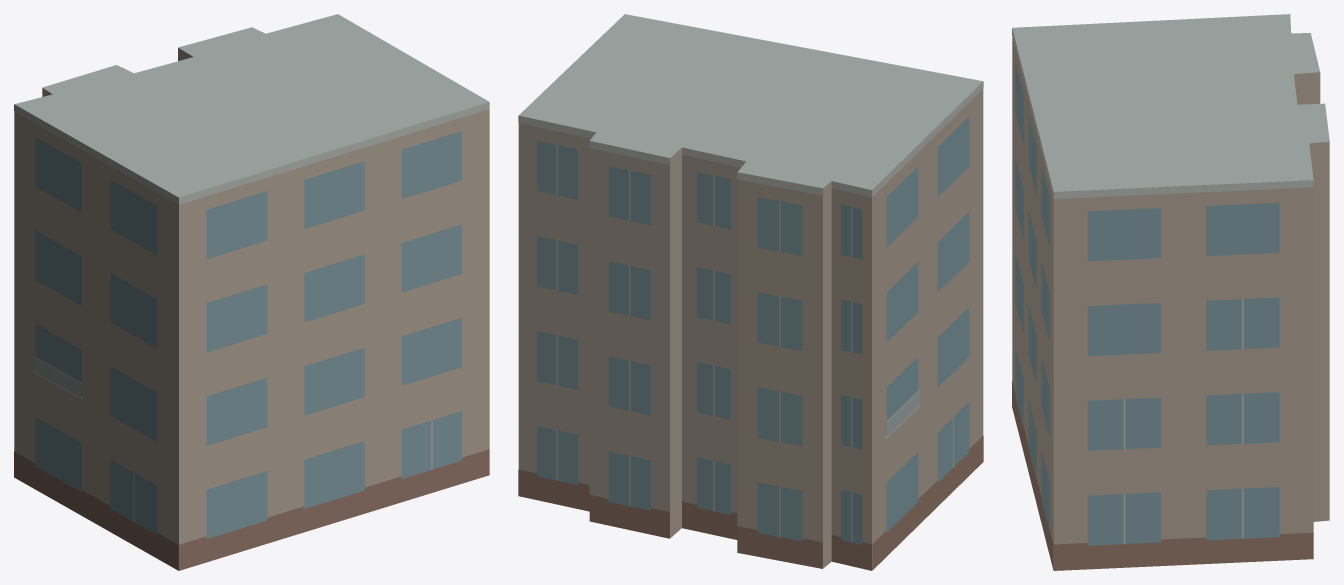
The model's file is survey-upis-32948805.glb.
The picture shows the model from 3 angles, left to right: view 1: azimuth 30°, elevation 25°; view 2: azimuth 150°, elevation 25°; view 3: azimuth 270°, elevation 25°; orthographic projection.
Parts seen in each view (by area): view 1: survey-upis-32948805.tmp; view 2: survey-upis-32948805.tmp; view 3: survey-upis-32948805.tmp.
Part boxes in pixels (x1,y1,x2,y2): survey-upis-32948805.tmp: (14, 14, 489, 570); survey-upis-32948805.tmp: (518, 14, 983, 570); survey-upis-32948805.tmp: (1012, 14, 1329, 570).
Bounding box in the file's own units: 12.79 × 12.7 × 9.66.
